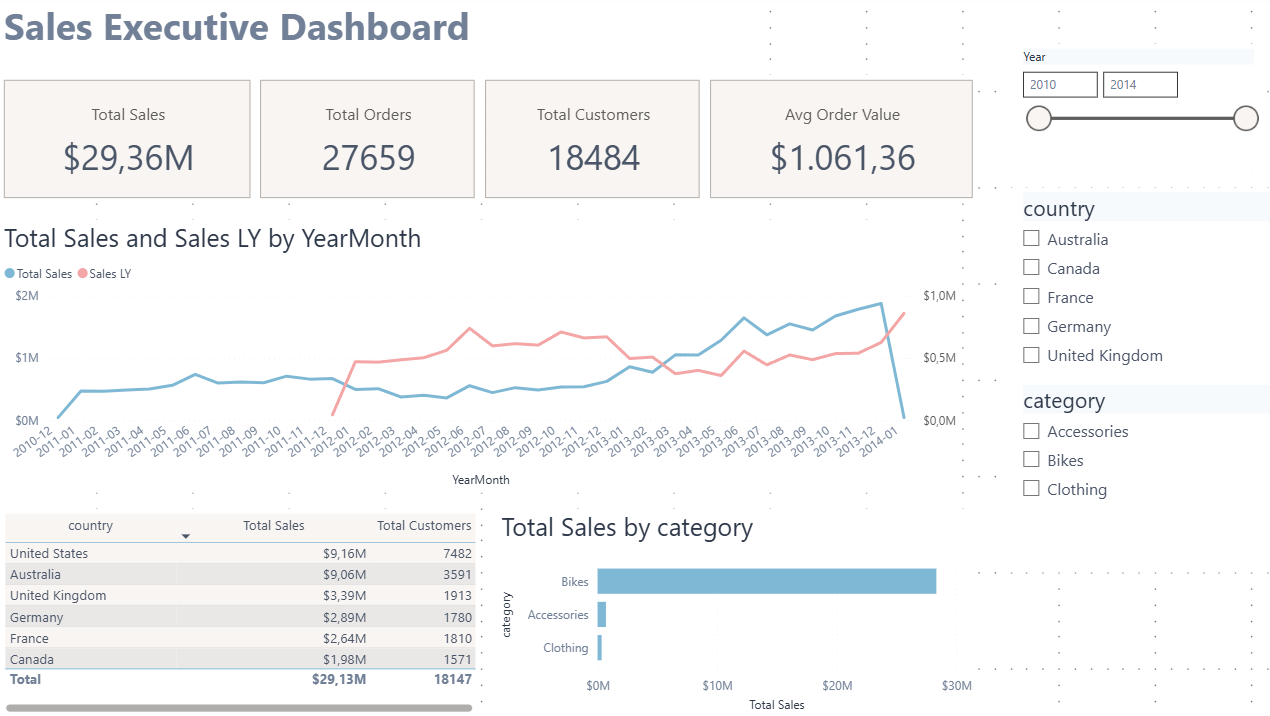

What the dashboard file says about the page in this screenshot:
{"tool":"powerbi","page":{"name":"Executive Summary","canvas":[1280,720],"ordinal":0},"visuals":[{"type":"textbox","box":[0,16,736,80],"z":0},{"type":"cardVisual","fields":{"Data":["_Measures.Total Sales"]},"box":[0,112,256,128],"z":1000},{"type":"cardVisual","fields":{"Data":["_Measures.Total Orders"]},"box":[256,112,224,128],"z":2000},{"type":"cardVisual","fields":{"Data":["_Measures.Total Customers"]},"box":[480,112,224,128],"z":3000},{"type":"cardVisual","fields":{"Data":["_Measures.Avg Order Value"]},"box":[704,112,272,128],"z":4000},{"type":"lineChart","fields":{"Category":["DateTable.YearMonth"],"Y":["_Measures.Total Sales"],"Y2":["_Measures.Sales LY"]},"box":[0,240,960,272],"z":5000},{"type":"barChart","fields":{"Category":["gold dim_products.category"],"Y":["_Measures.Total Sales"]},"box":[496,512,480,208],"z":6000},{"type":"tableEx","fields":{"Values":["gold dim_customers.country","_Measures.Total Sales","_Measures.Total Customers"]},"box":[0,512,480,208],"z":7000},{"type":"slicer","fields":{"Values":["DateTable.Year"]},"box":[1008,48,256,128],"z":8000},{"type":"slicer","fields":{"Values":["gold dim_products.category"]},"box":[1008,384,272,192],"z":9000},{"type":"slicer","fields":{"Values":["gold dim_customers.country"]},"box":[1008,192,272,192],"z":10000}]}

Visuals, with their boxes in screenshot pixels (x1, y1, x2, y2), scaled from the page's 1280x720 canvas onto the 1270x716 screenshot:
textbox: crop(0, 16, 730, 95)
cardVisual - _Measures.Total Sales: crop(0, 111, 254, 239)
cardVisual - _Measures.Total Orders: crop(254, 111, 476, 239)
cardVisual - _Measures.Total Customers: crop(476, 111, 698, 239)
cardVisual - _Measures.Avg Order Value: crop(698, 111, 968, 239)
lineChart - DateTable.YearMonth x _Measures.Total Sales: crop(0, 239, 952, 509)
barChart - gold dim_products.category x _Measures.Total Sales: crop(492, 509, 968, 715)
tableEx - gold dim_customers.country x _Measures.Total Sales: crop(0, 509, 476, 715)
slicer - DateTable.Year: crop(1000, 48, 1254, 175)
slicer - gold dim_products.category: crop(1000, 382, 1269, 573)
slicer - gold dim_customers.country: crop(1000, 191, 1269, 382)
